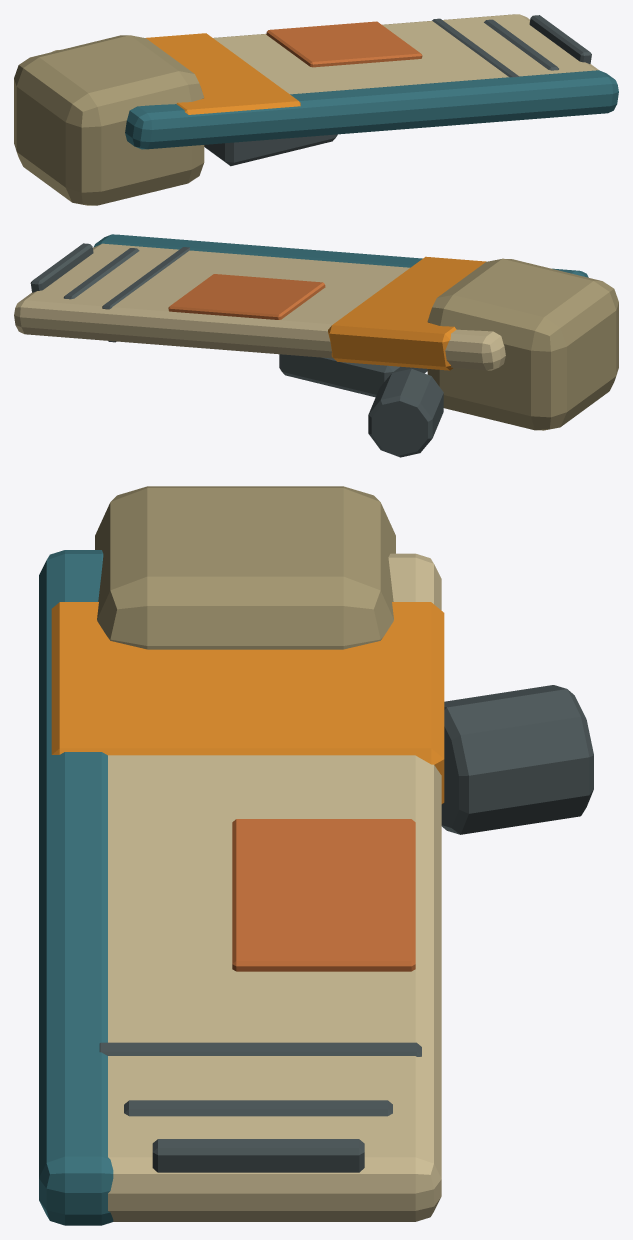
File: wb_wreck_wing.glb
The picture shows the model from 3 angles, top to bottom: view 1: azimuth 30°, elevation 25°; view 2: azimuth 150°, elevation 25°; view 3: azimuth 270°, elevation 25°; orthographic projection. The views are drawn at different scales.
Parts seen in each view (by area): view 1: wb_wreck_wing; view 2: wb_wreck_wing; view 3: wb_wreck_wing.
Boxes of the visible parts, left/top/right/bottom form: wb_wreck_wing: left=14, top=14, right=618, bottom=205; wb_wreck_wing: left=14, top=234, right=618, bottom=457; wb_wreck_wing: left=39, top=486, right=593, bottom=1225.
Bounding box in the file's own units: 4.69 × 1.06 × 2.12.
